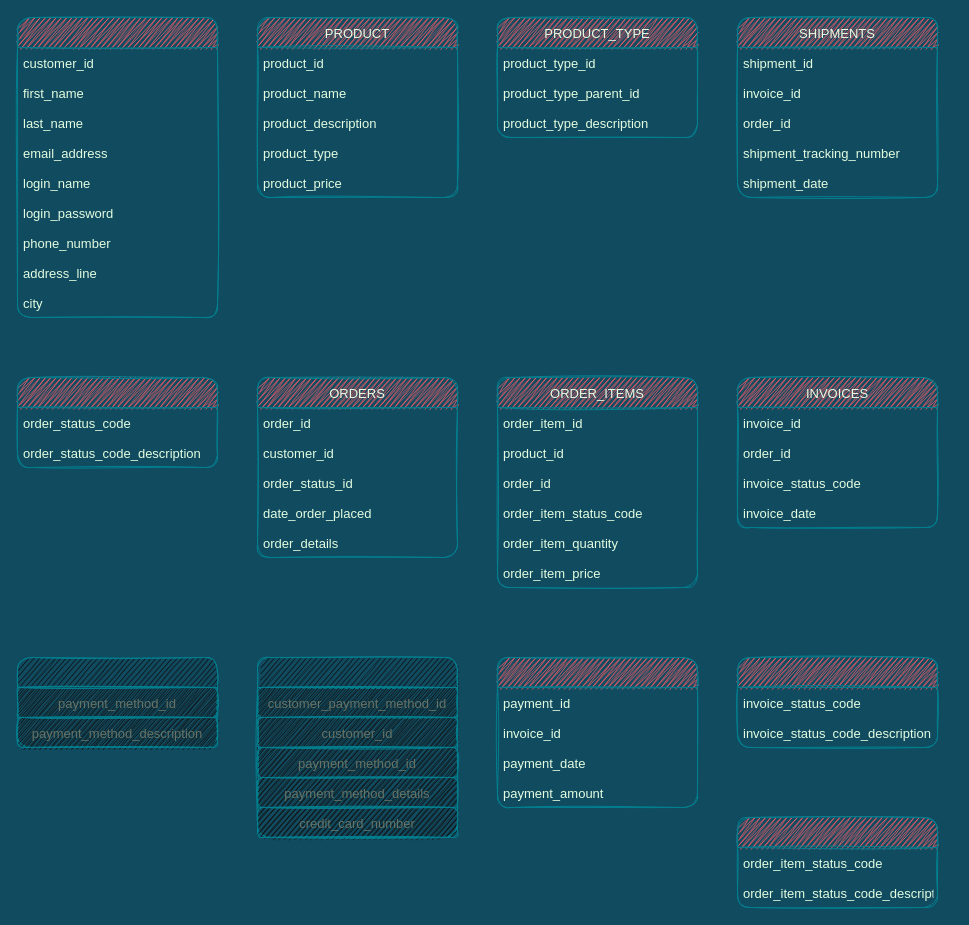
This 969x925 diagram has some shape labels left out. The shapes that lost their labels are listed below. From the top down, each one's box as (x1, y1, x2, y2) in pixels, then its label:
(16, 16, 218, 318): CUSTOMERS
(16, 376, 218, 468): ORDER_STATUS_CODES
(16, 656, 218, 748): PAYMENT_METHODS
(736, 656, 938, 748): INVOICE_STATUS_CODES
(256, 656, 458, 838): CUSTOMER_PAYMENT_METHODS
(496, 656, 698, 808): PAYMENTS
(736, 816, 938, 908): ORDER_ITEM_STATUS_CODES
